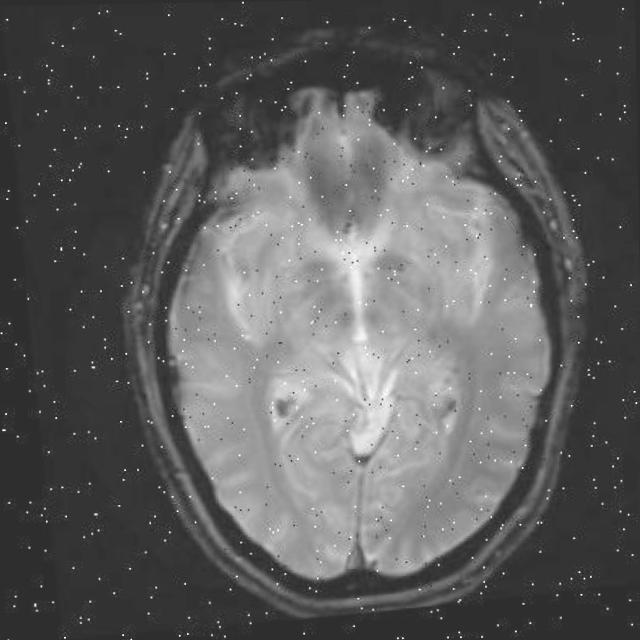EMCI: (309, 149, 382, 241)
